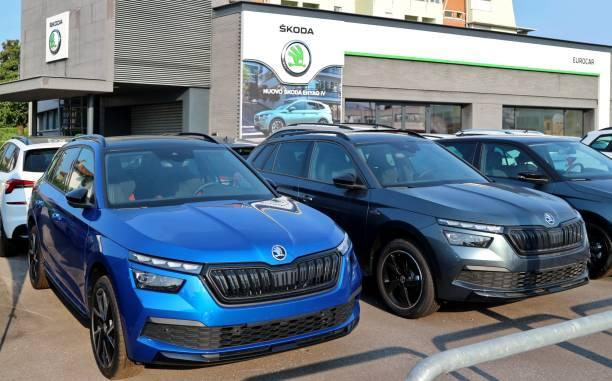skoda: (277, 39, 323, 83), (44, 26, 71, 58), (269, 239, 292, 266), (539, 209, 562, 229)
